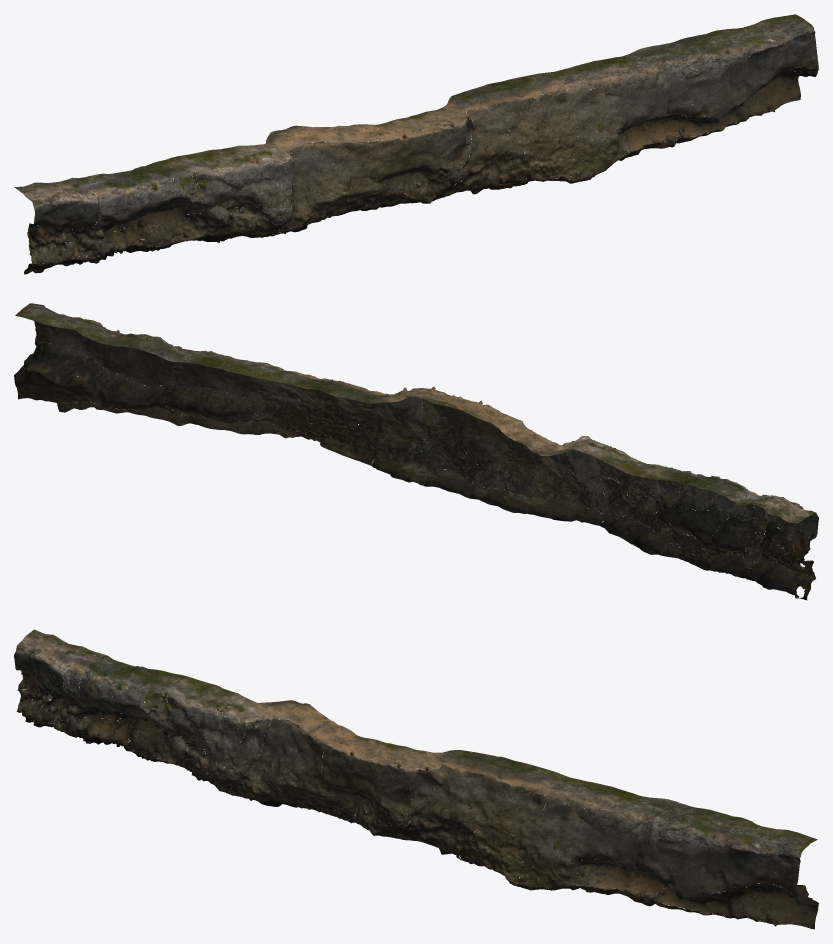
File: coastal_cliff_01.glb
3 views of the same model, one above another, from view 1: azimuth 30°, elevation 25°; view 2: azimuth 150°, elevation 25°; view 3: azimuth 330°, elevation 25° (orthographic). The views are drawn at different scales.
Parts seen in each view (by area): view 1: coastal_cliff_01; view 2: coastal_cliff_01; view 3: coastal_cliff_01.
Boxes of the visible parts, <box> form: coastal_cliff_01: <box>14,14,818,274</box>; coastal_cliff_01: <box>14,303,818,600</box>; coastal_cliff_01: <box>14,629,818,929</box>.
Bounding box in the file's own units: 28 × 3.13 × 3.33.
1 material, 1 textured.
